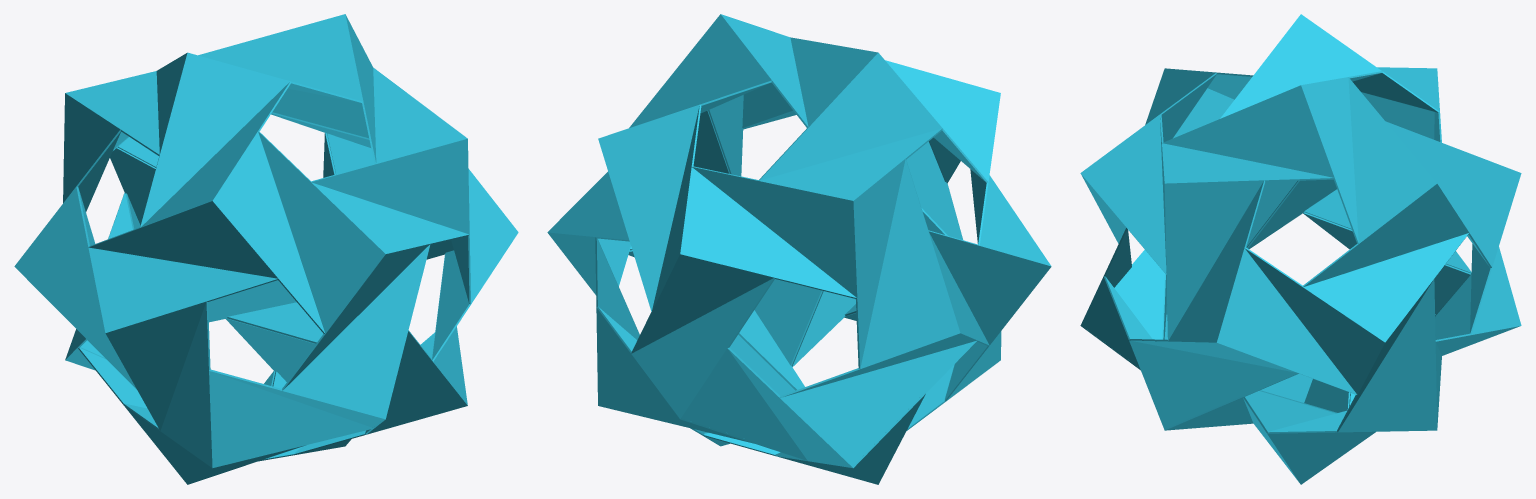
File: Dodecahedron1.glb
The picture shows the model from 3 angles, left to right: view 1: azimuth 30°, elevation 25°; view 2: azimuth 150°, elevation 25°; view 3: azimuth 270°, elevation 25°; orthographic projection. The views are drawn at different scales.
Visible parts, largest first — view 1: root; view 2: root; view 3: root.
Part boxes in pixels (box(x1,y1,x2,y2)): root: box(14, 14, 518, 484); root: box(547, 14, 1051, 484); root: box(1080, 14, 1521, 484).
Size of the model in its own units: 2.62 by 2.62 by 2.62.
